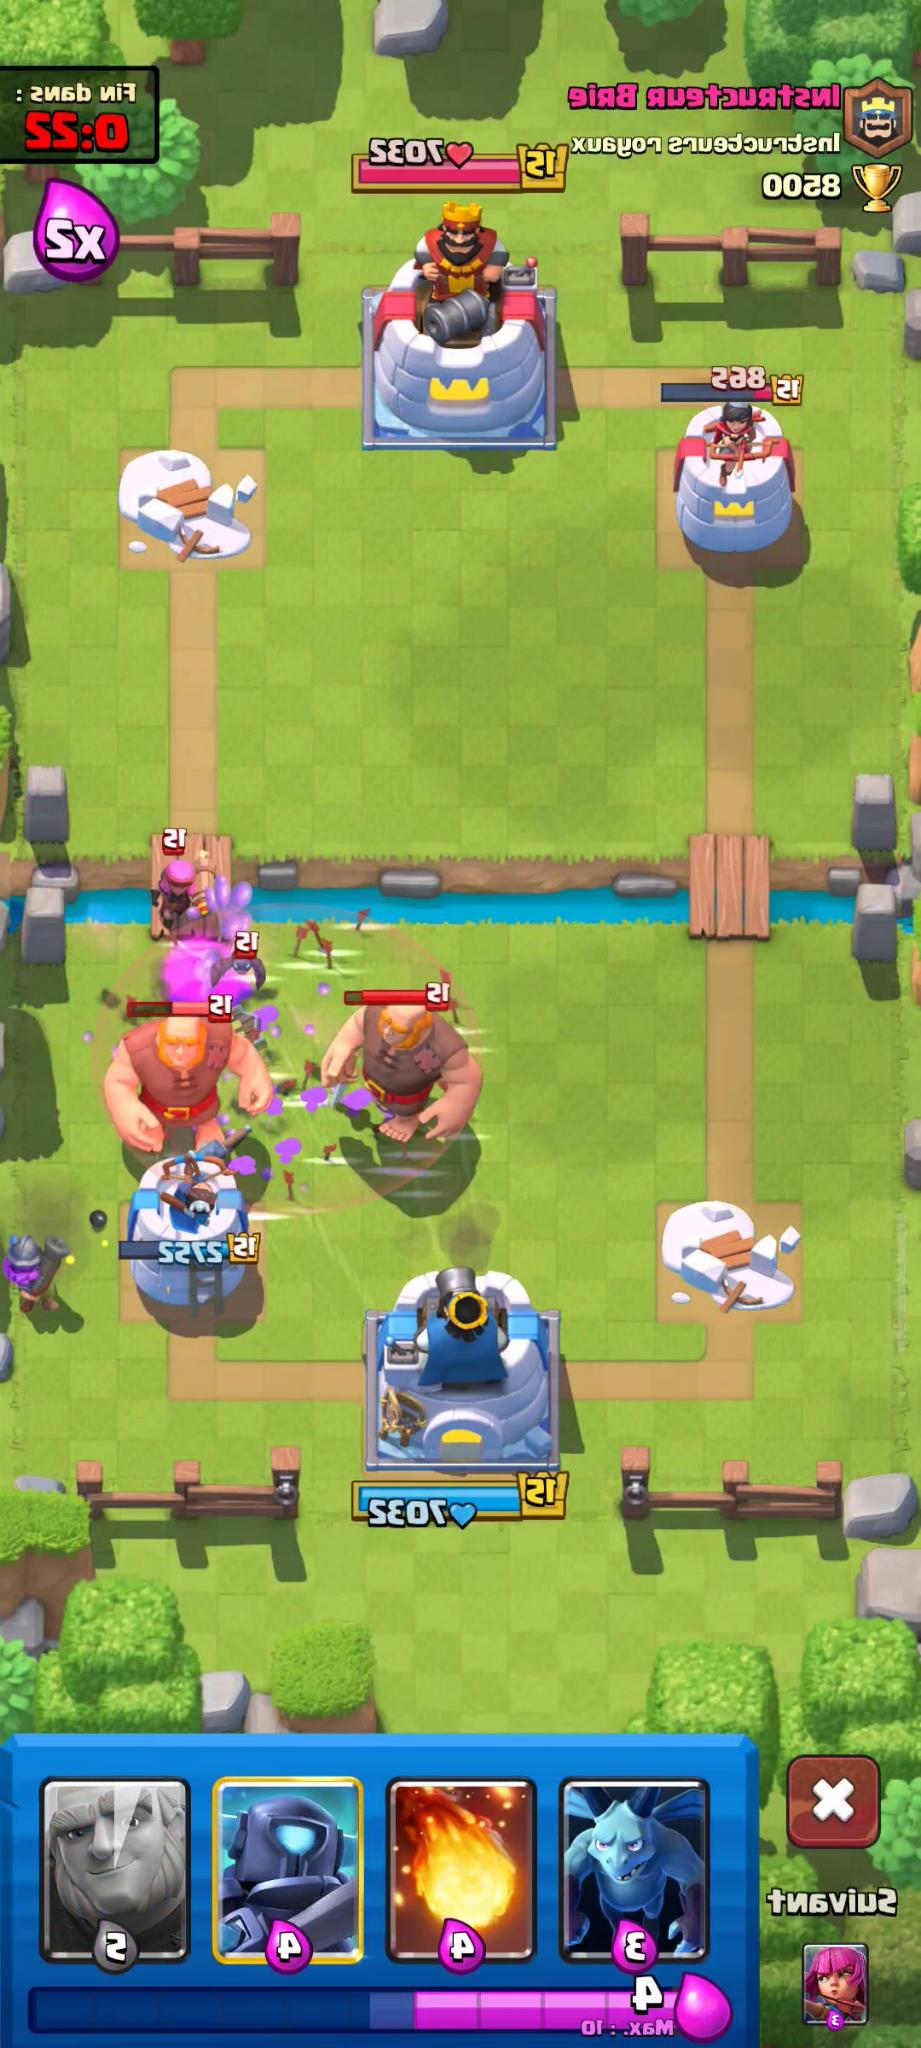bat: (197, 929, 278, 1002)
geant: (324, 985, 487, 1152), (97, 1000, 267, 1157)
mousquetaire: (1, 1228, 71, 1309)
